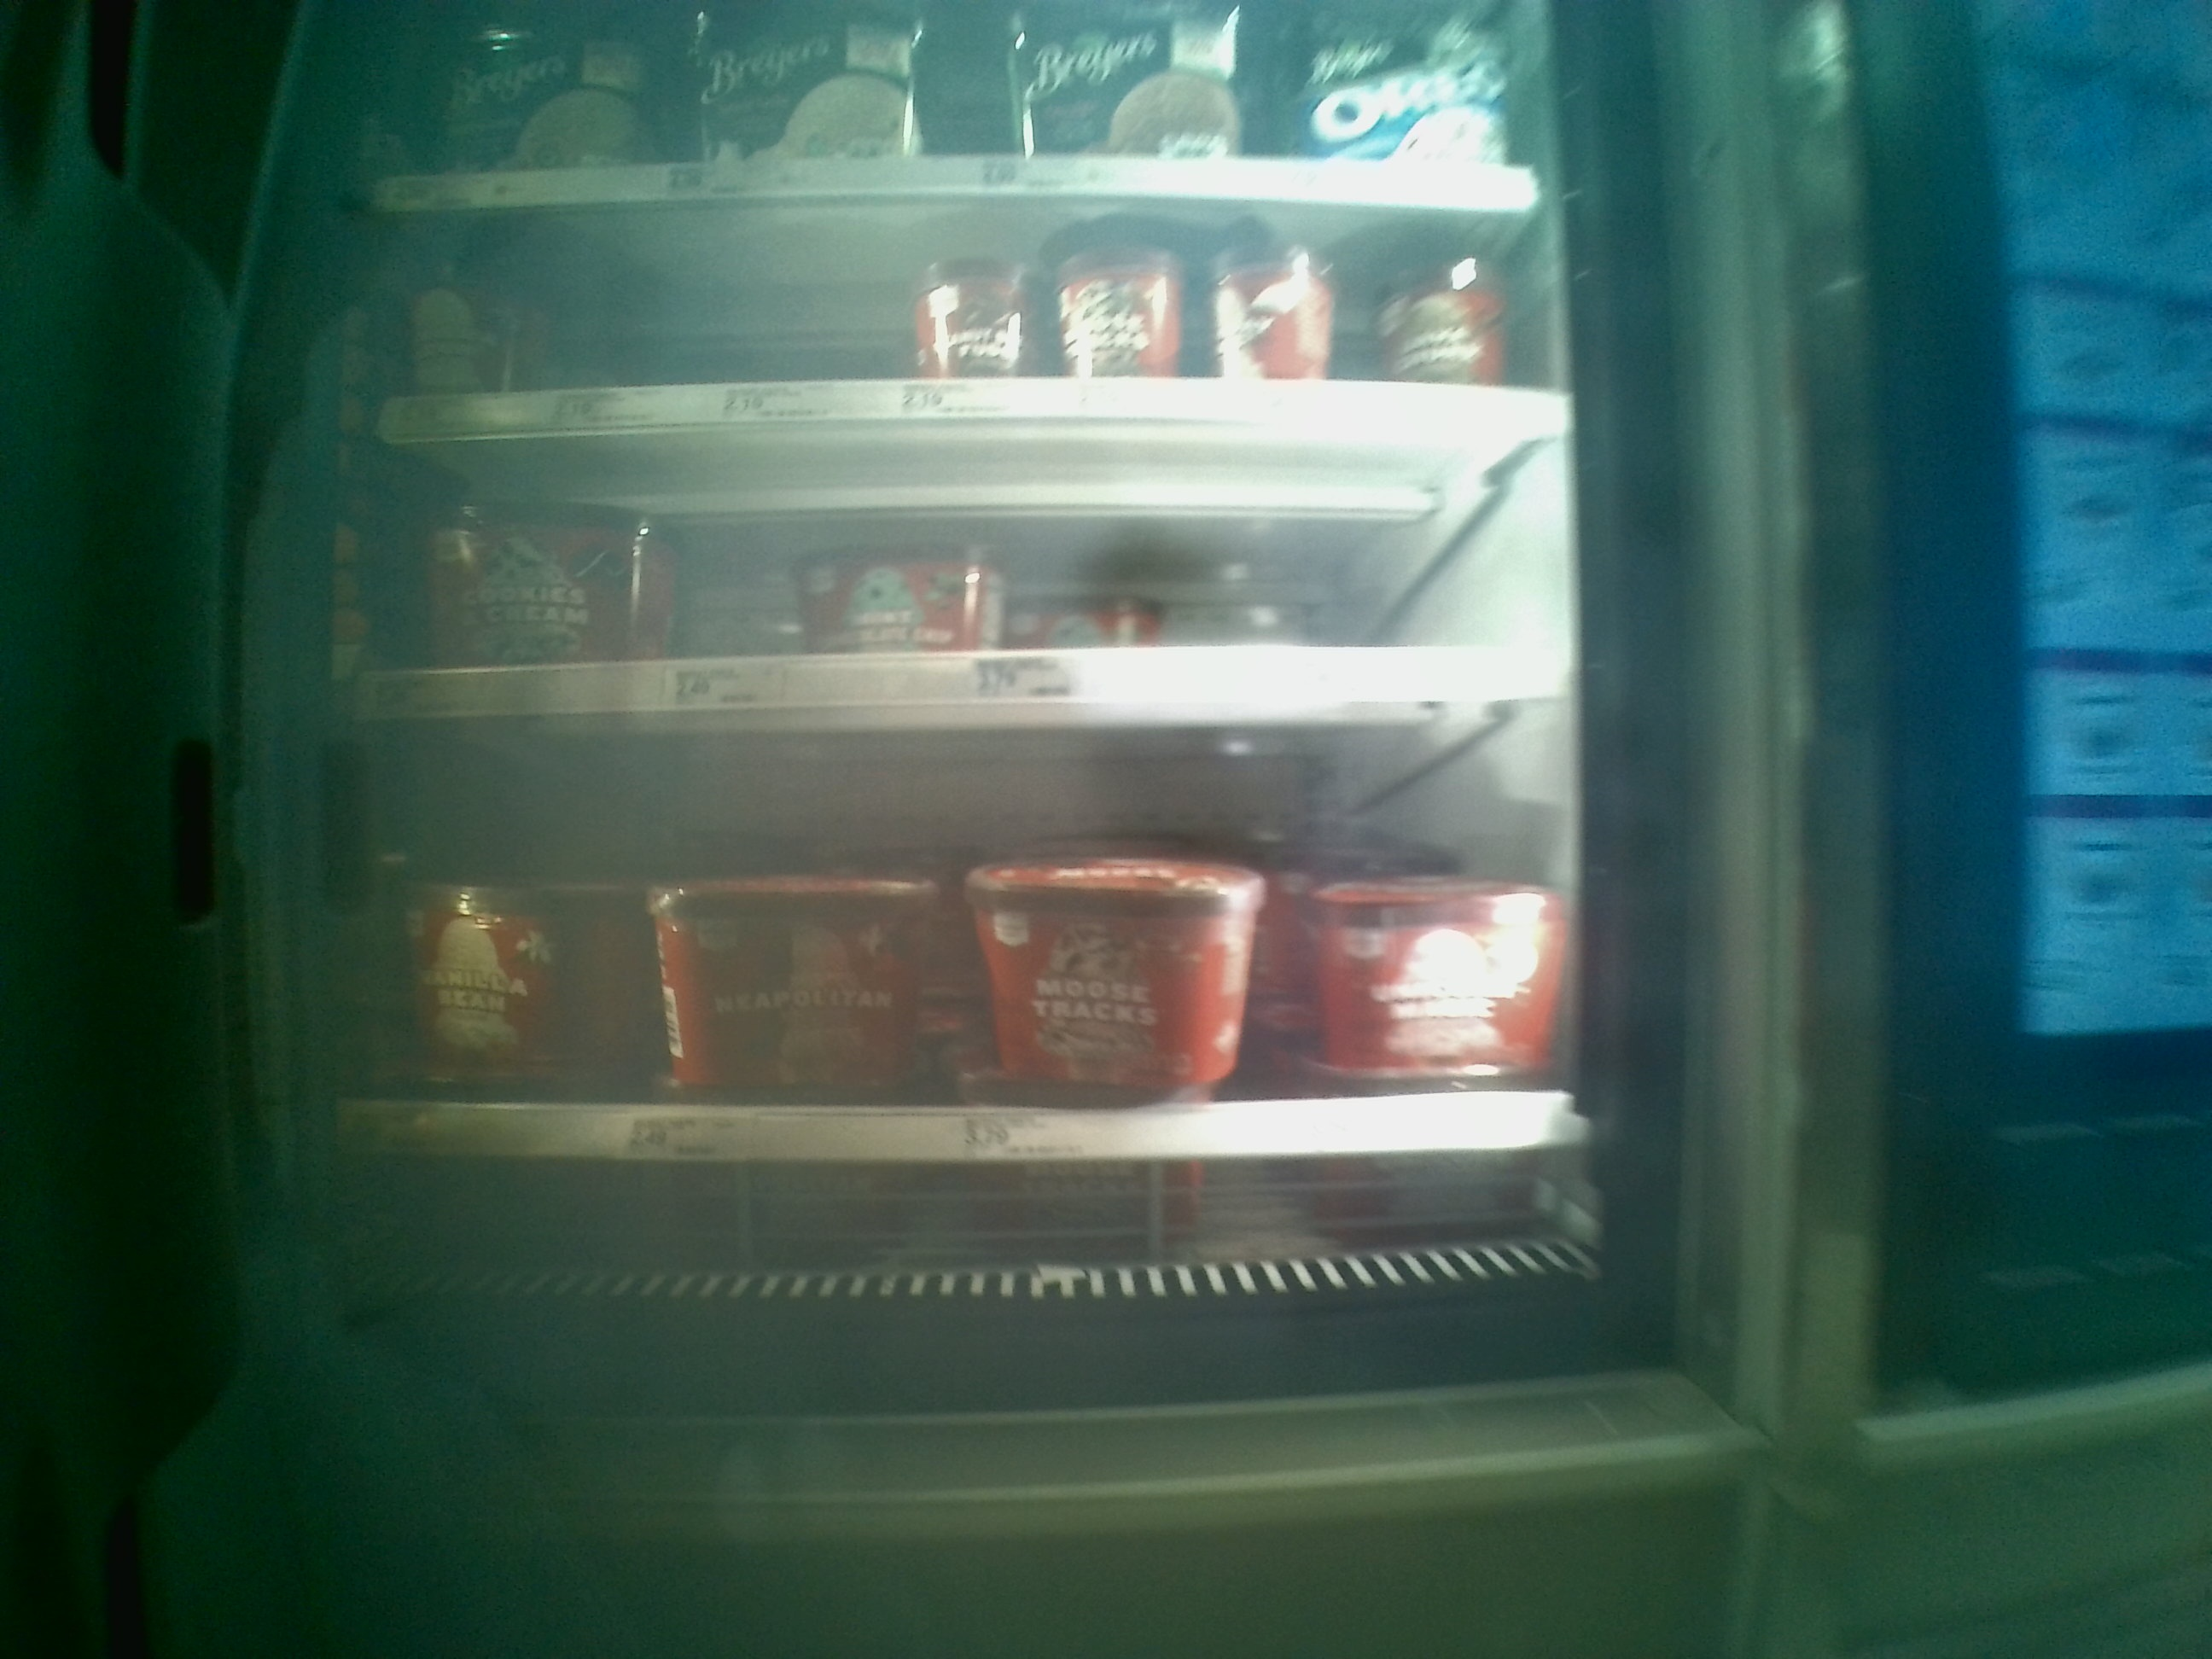ice-cream-shelf: (350, 711, 1590, 1178), (355, 430, 1571, 711)
